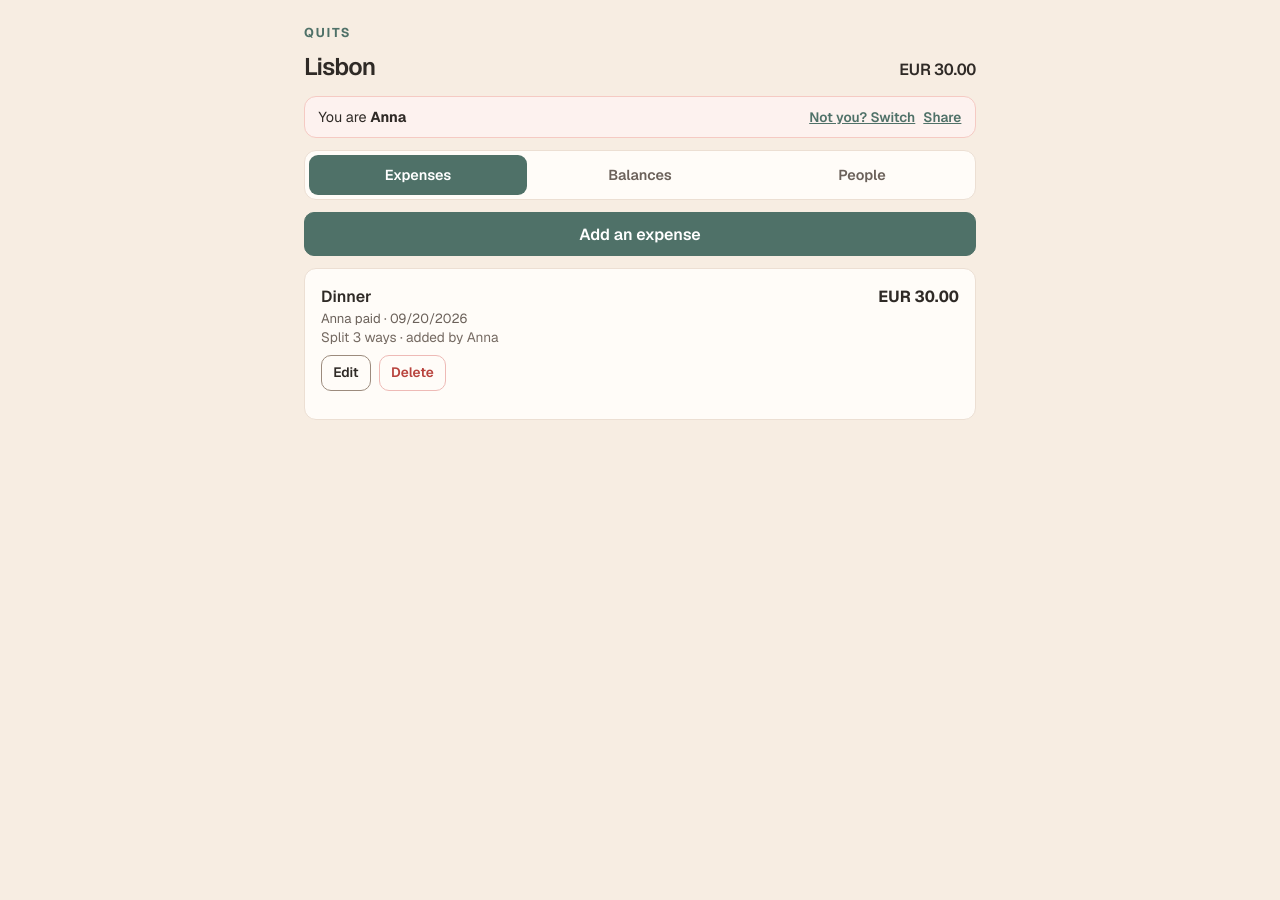
Scenario: editing and deleting — SPEC §7.15 and §7.16 › pre-fills the form with what was saved
Click the button "Edit".
click(346, 372)  # box [321,354,371,390]
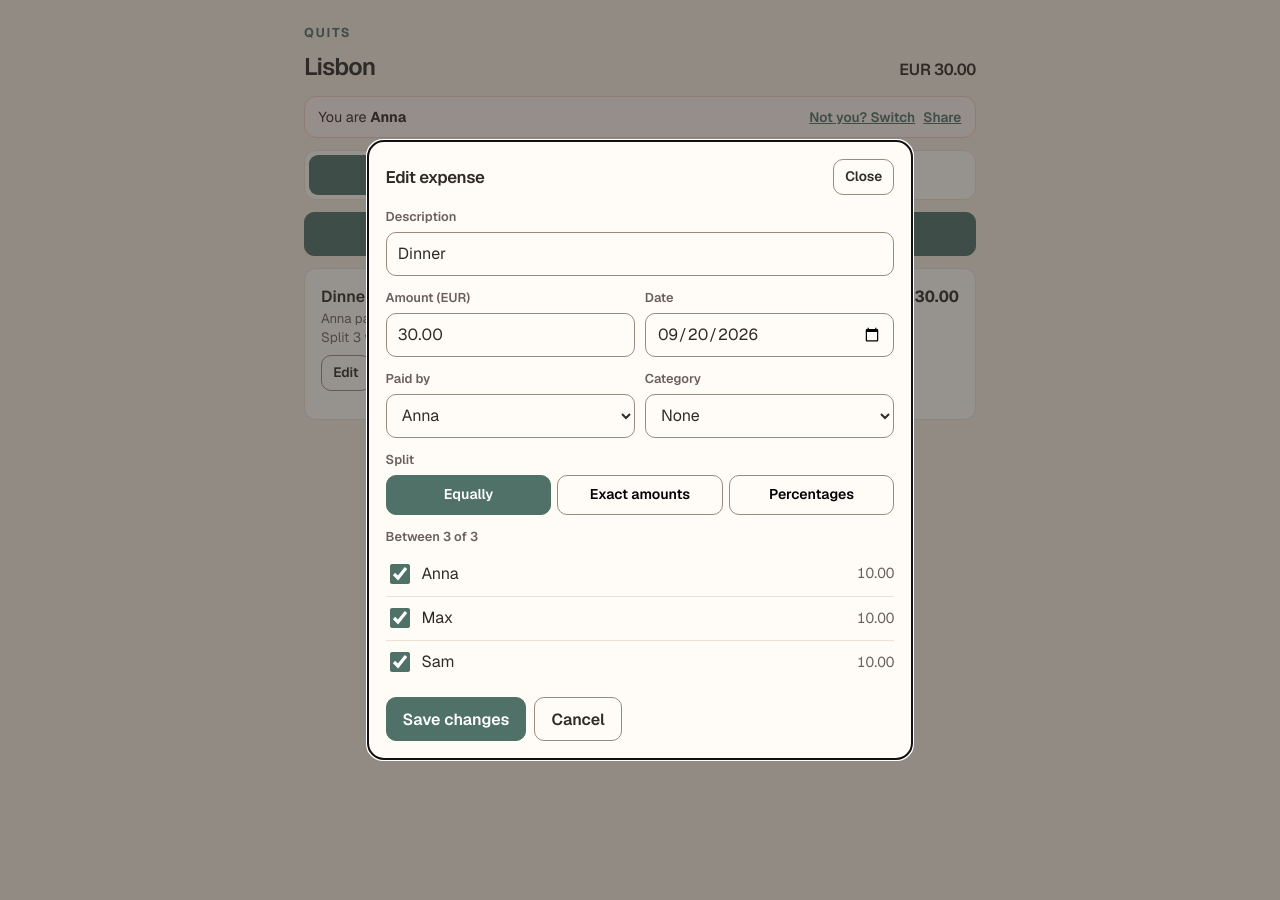
Check: the field labelled "Description" holds "Dinner", box [386,232,894,276]
Check: the field labelled "Amount (EUR)" holds "30.00", box [386,313,635,357]
